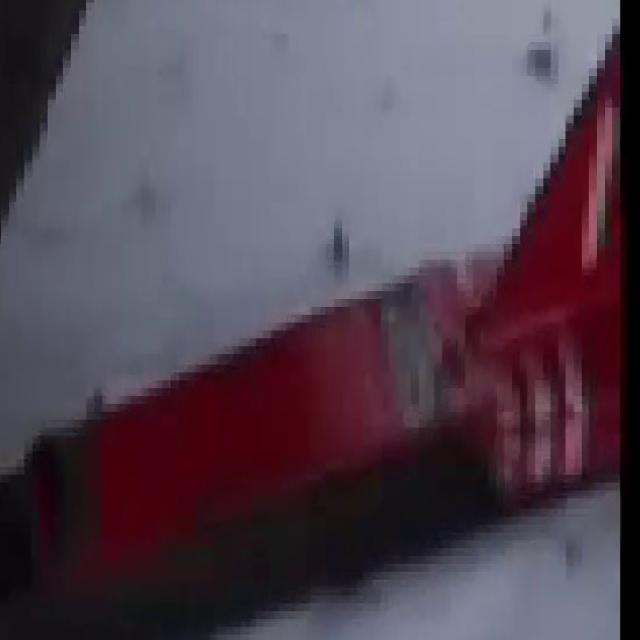objects: (566, 89, 623, 278)
